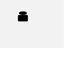human: (16, 9, 32, 23)
